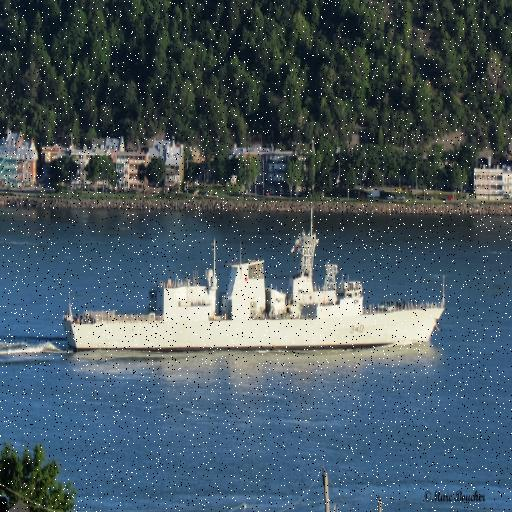Fragata: (58, 180, 452, 358)
